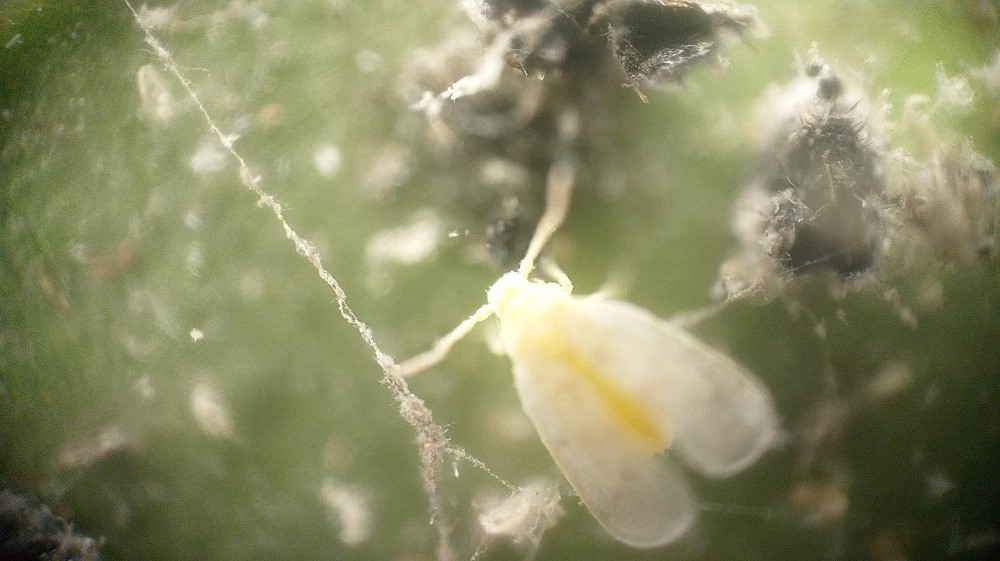Mosca Blanca: (377, 167, 809, 554)
